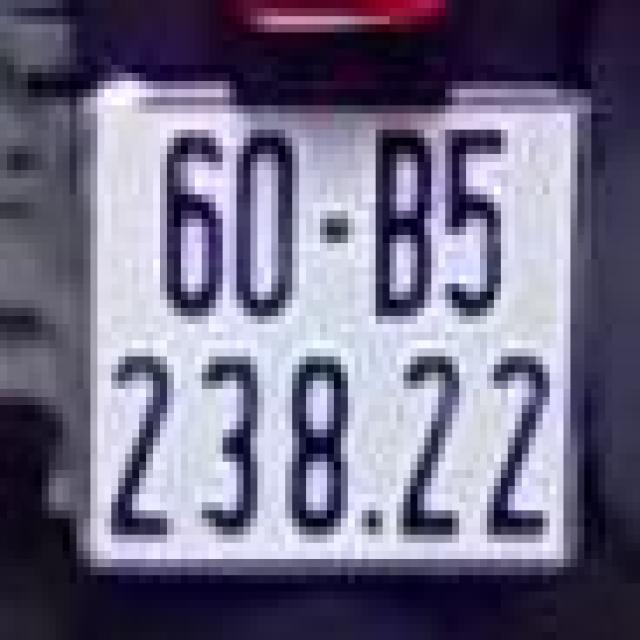0: (230, 122, 306, 324)
2: (101, 344, 184, 547), (393, 348, 470, 551), (487, 352, 556, 555)
3: (191, 332, 268, 551)
5: (442, 114, 518, 332)
6: (146, 126, 230, 328)
8: (282, 344, 358, 547)
B: (358, 118, 442, 336)
